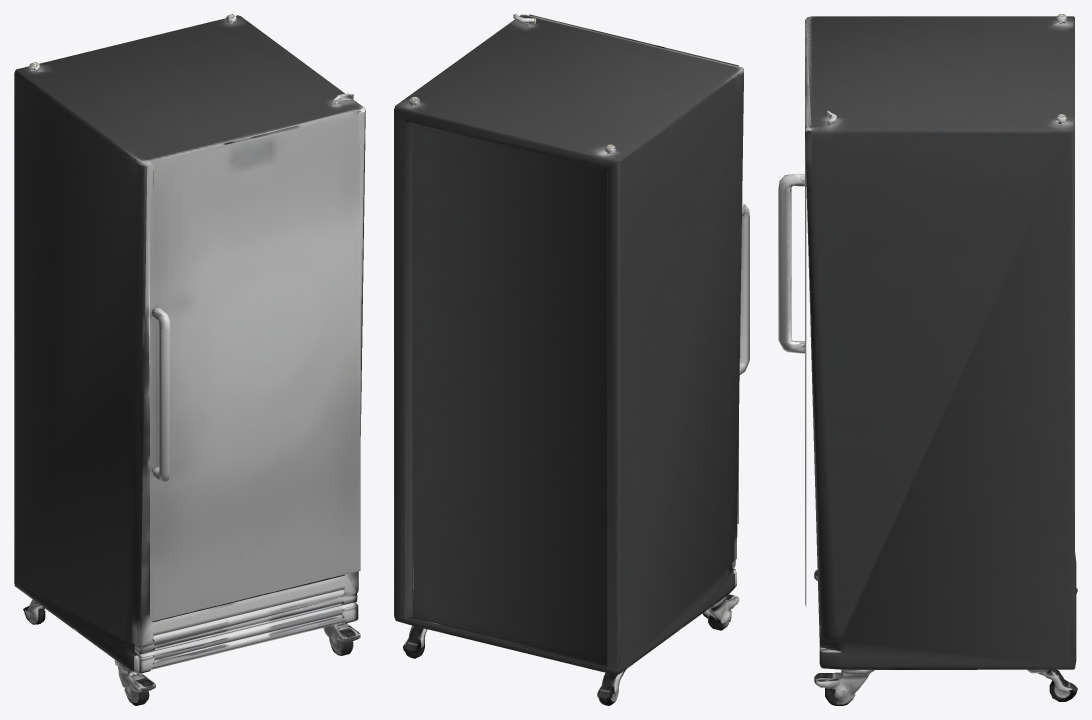
File: fridge_on_whee_0126181420_texture.glb
3 views of the same model, side by side, from view 1: azimuth 30°, elevation 25°; view 2: azimuth 150°, elevation 25°; view 3: azimuth 270°, elevation 25° (orthographic). The views are drawn at different scales.
Parts seen in each view (by area): view 1: Mesh_0; view 2: Mesh_0; view 3: Mesh_0.
Part boxes in pixels (x1,y1,x2,y2): Mesh_0: (14,14,365,705); Mesh_0: (394,14,749,705); Mesh_0: (778,14,1077,705).
Bounding box in the file's own units: 0.8981 × 2.13 × 0.9857.
1 material, 1 textured.
